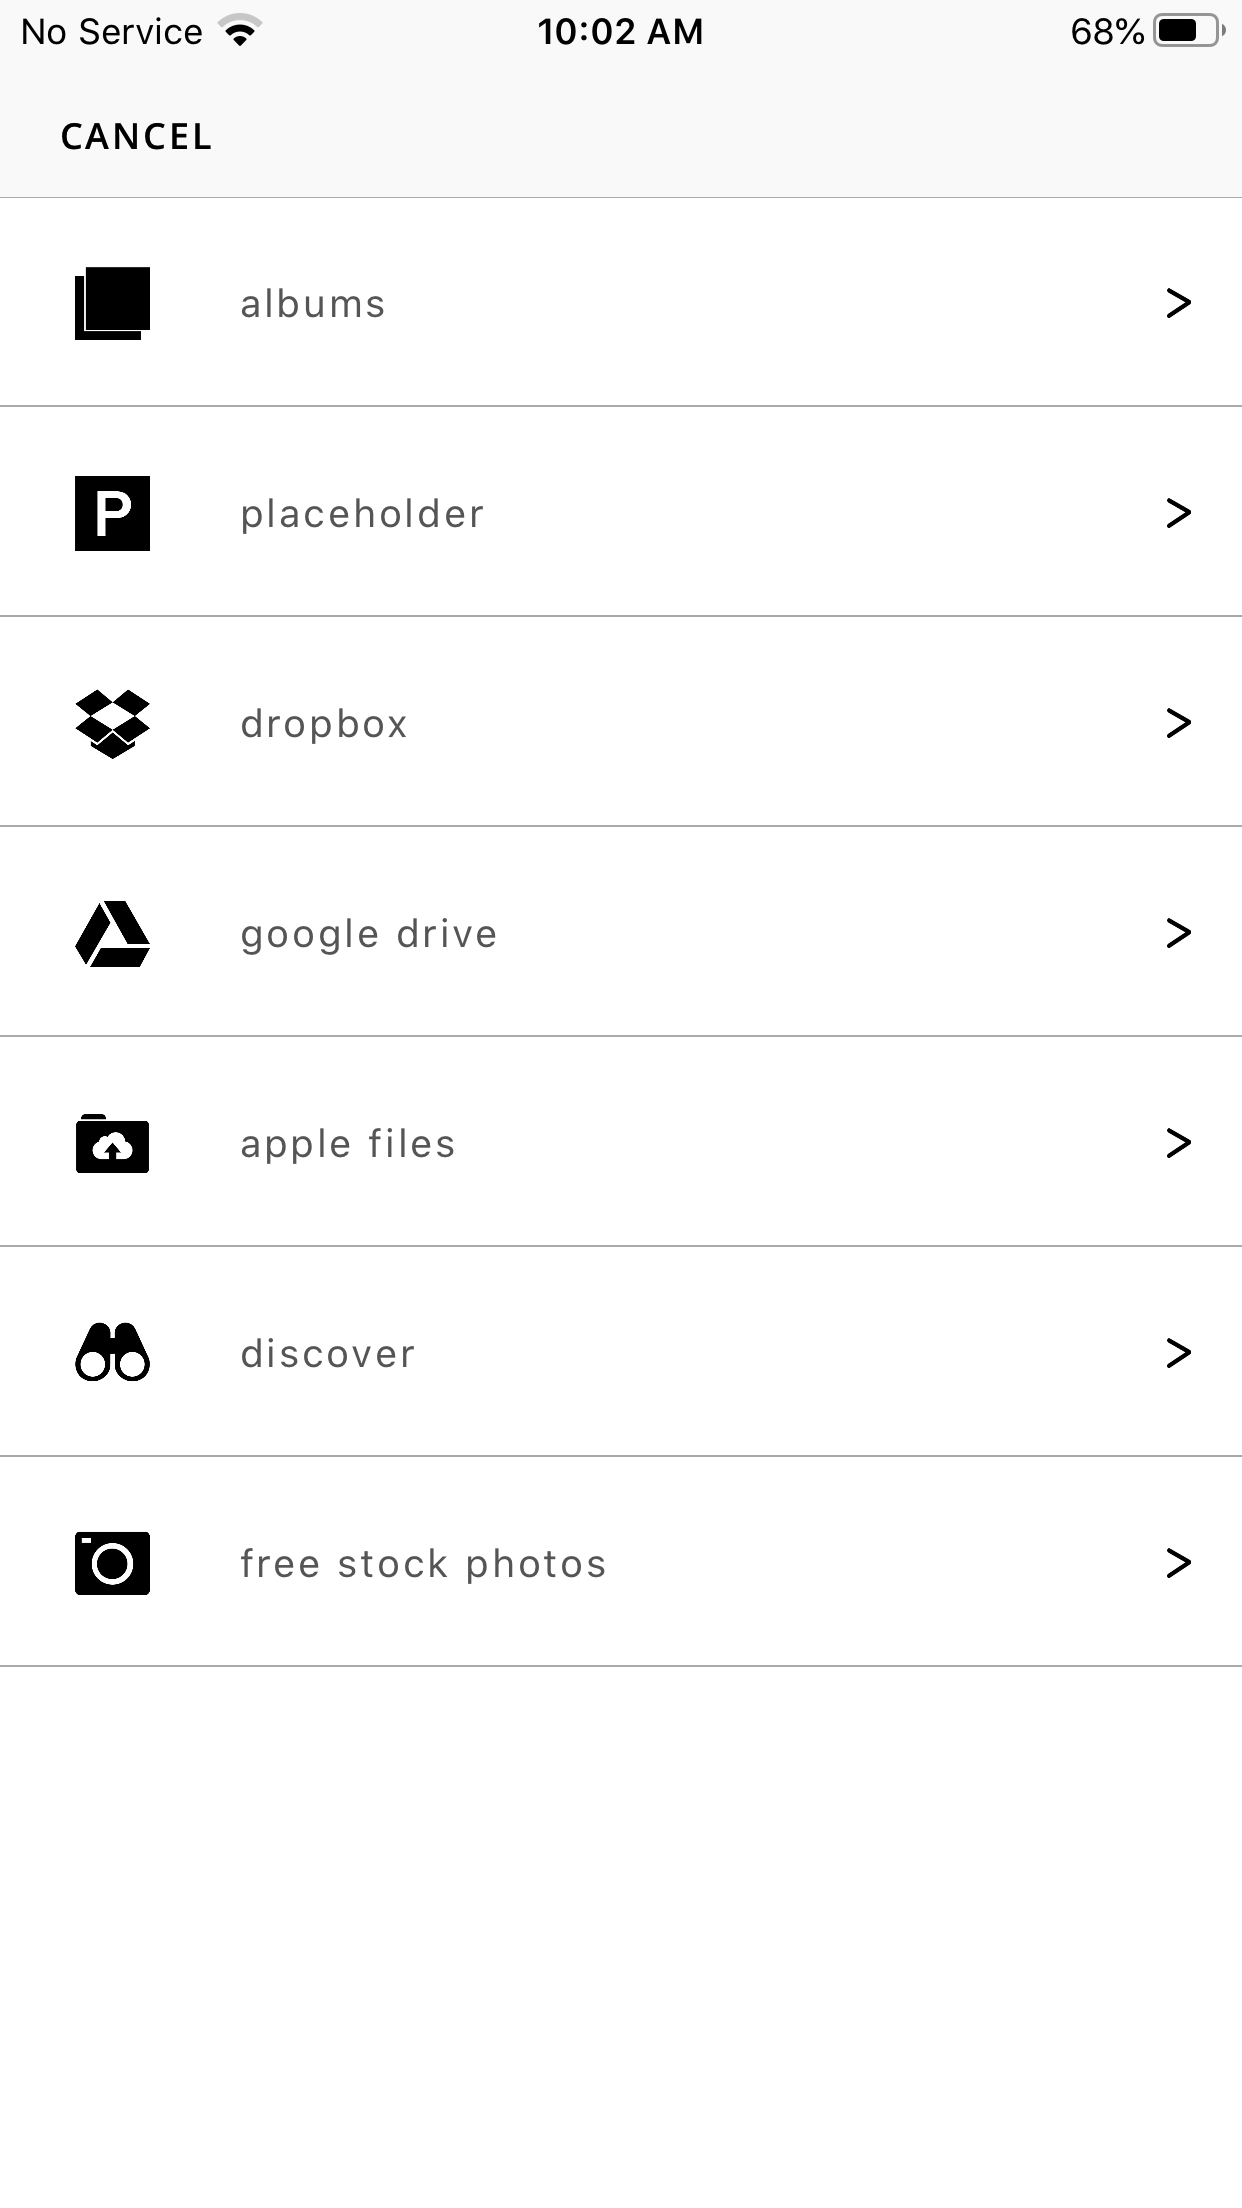Icon: (74, 476, 150, 550), (74, 267, 150, 340), (74, 688, 150, 760), (74, 901, 150, 968), (74, 1532, 150, 1595), (74, 1322, 150, 1382), (76, 1115, 150, 1174), (1168, 1548, 1190, 1579), (1168, 1338, 1190, 1368), (1168, 1128, 1190, 1159), (1168, 917, 1190, 948), (1168, 708, 1190, 739), (1168, 497, 1190, 528), (1168, 288, 1190, 318)
Text: (64, 123, 211, 149)
UpperTaskBar: (2, 2, 1242, 49)
